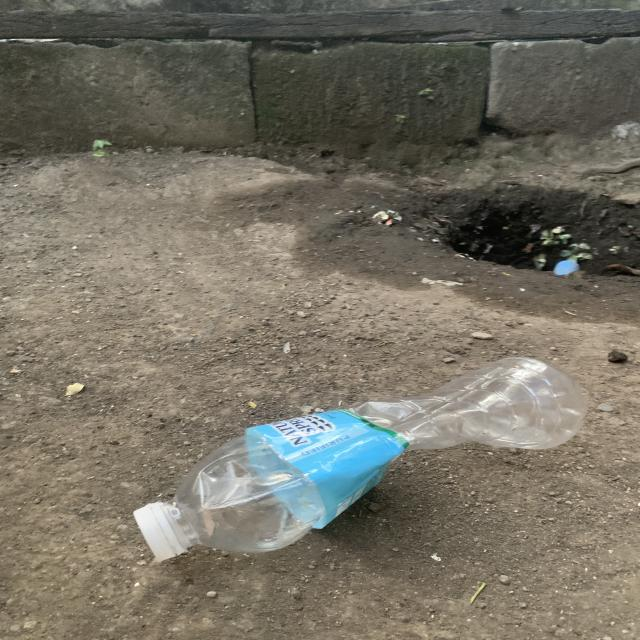Bottle: (134, 357, 586, 562)
